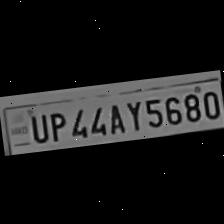0: (197, 86, 220, 120)
4: (83, 100, 106, 136), (66, 103, 88, 138)
5: (140, 92, 164, 128)
6: (160, 90, 182, 126)
8: (180, 88, 202, 123)
A: (102, 98, 125, 134)
P: (43, 106, 66, 142)
U: (24, 110, 48, 144)
Y: (121, 96, 144, 132)
